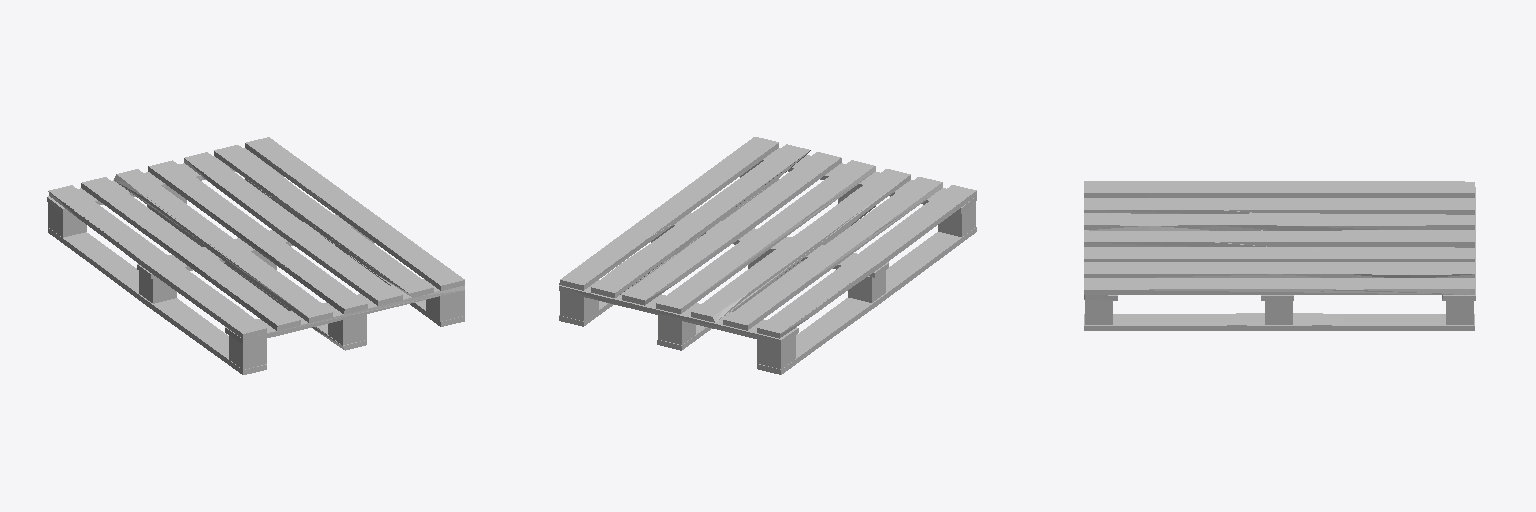
Rendered from pallet.obj.
3 renders of one model, left to right at view 1: azimuth 30°, elevation 25°; view 2: azimuth 150°, elevation 25°; view 3: azimuth 270°, elevation 25°, orthographic.
Visible parts, largest first — view 1: Pallet_low, Pallet; view 2: Pallet_low, Pallet; view 3: Pallet_low, Pallet.
Part boxes in pixels (x1,y1,x2,y2): Pallet_low: (47,137,464,374); Pallet: (47,143,464,374); Pallet_low: (559,137,976,374); Pallet: (559,144,976,371); Pallet_low: (1084,181,1475,330); Pallet: (1084,181,1475,330).
Size of the model in its own units: 3.33 by 0.5839 by 4.99.